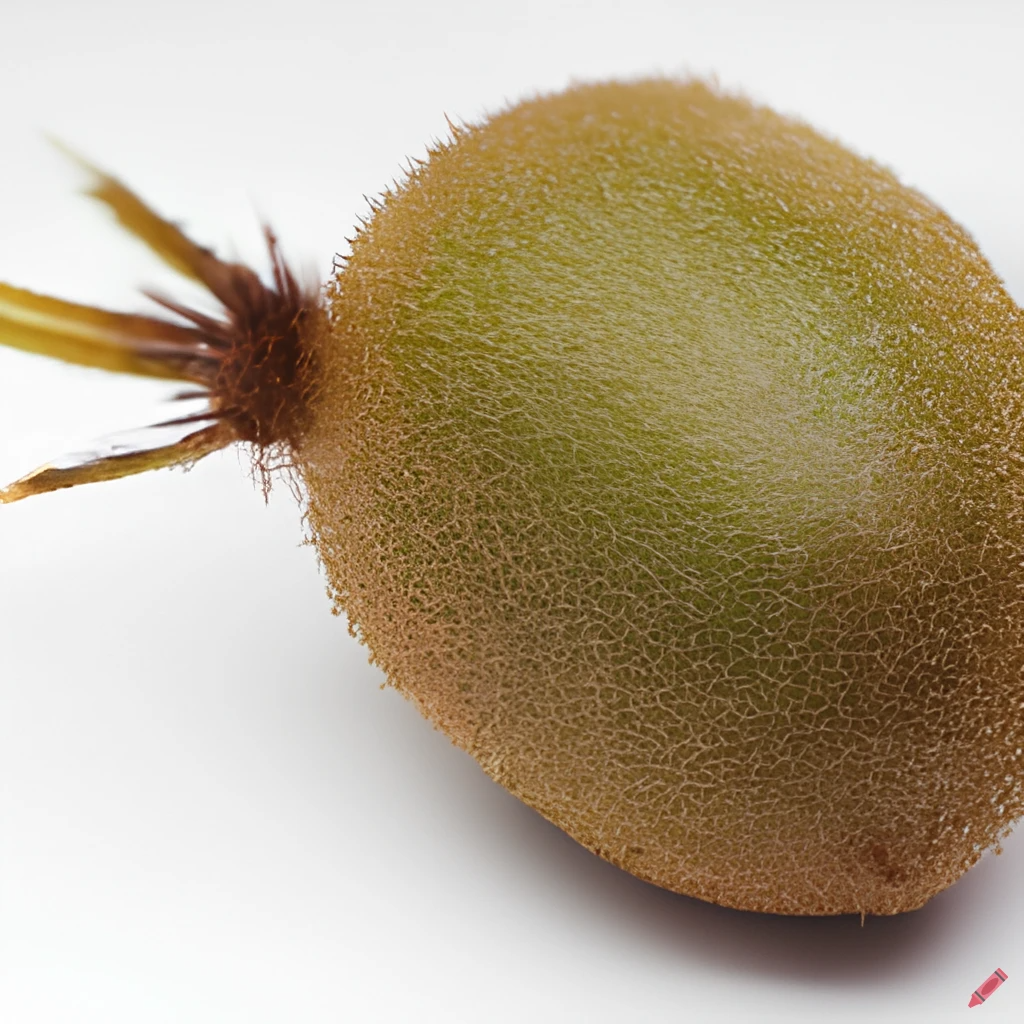Kiwi: (287, 74, 1006, 938)
